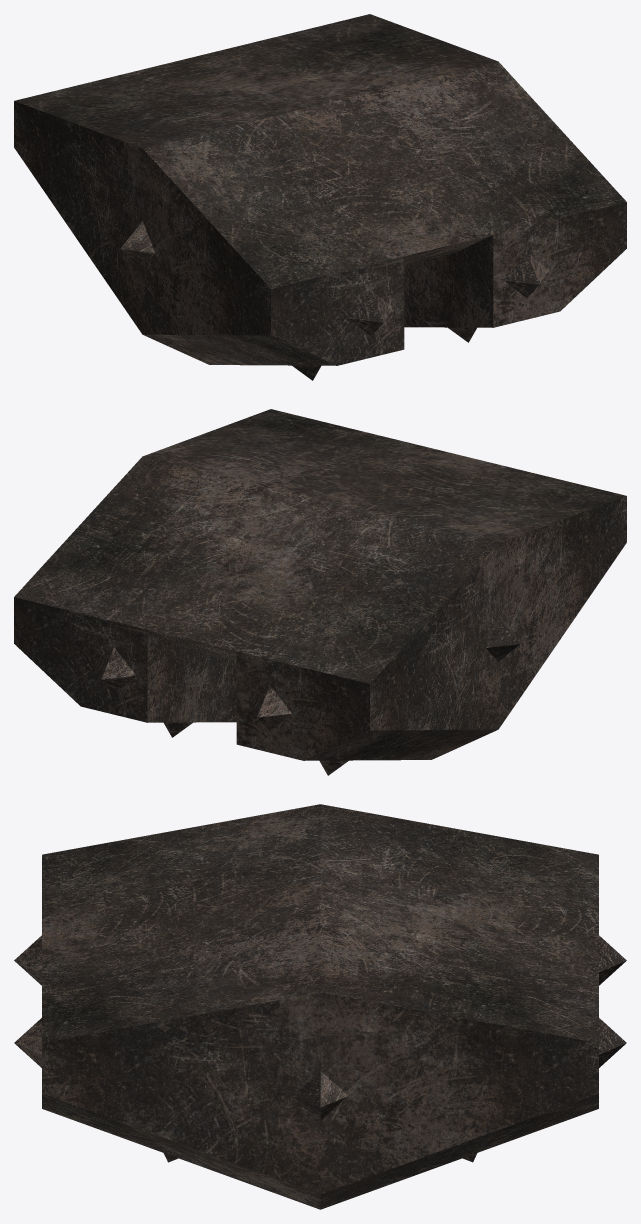
The model's file is AxeTrap.FBX.
The picture shows the model from 3 angles, top to bottom: view 1: azimuth 30°, elevation 25°; view 2: azimuth 150°, elevation 25°; view 3: azimuth 270°, elevation 25°; orthographic projection. The views are drawn at different scales.
Parts seen in each view (by area): view 1: AxeTrap; view 2: AxeTrap; view 3: AxeTrap.
Boxes of the visible parts, bbox=[...] form: AxeTrap: bbox=[14, 14, 626, 380]; AxeTrap: bbox=[14, 409, 626, 775]; AxeTrap: bbox=[14, 804, 626, 1209].
Bounding box in the file's own units: 90 × 50 × 110.
